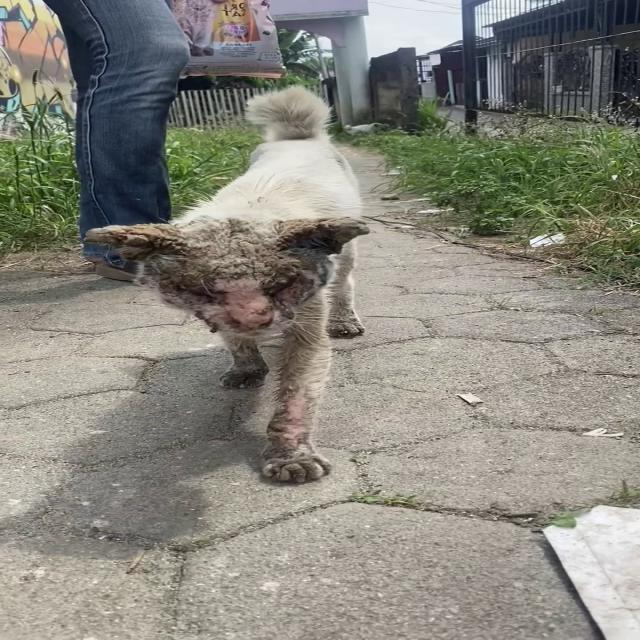ghe: (202, 205, 294, 334), (82, 227, 228, 285), (251, 207, 378, 254)
